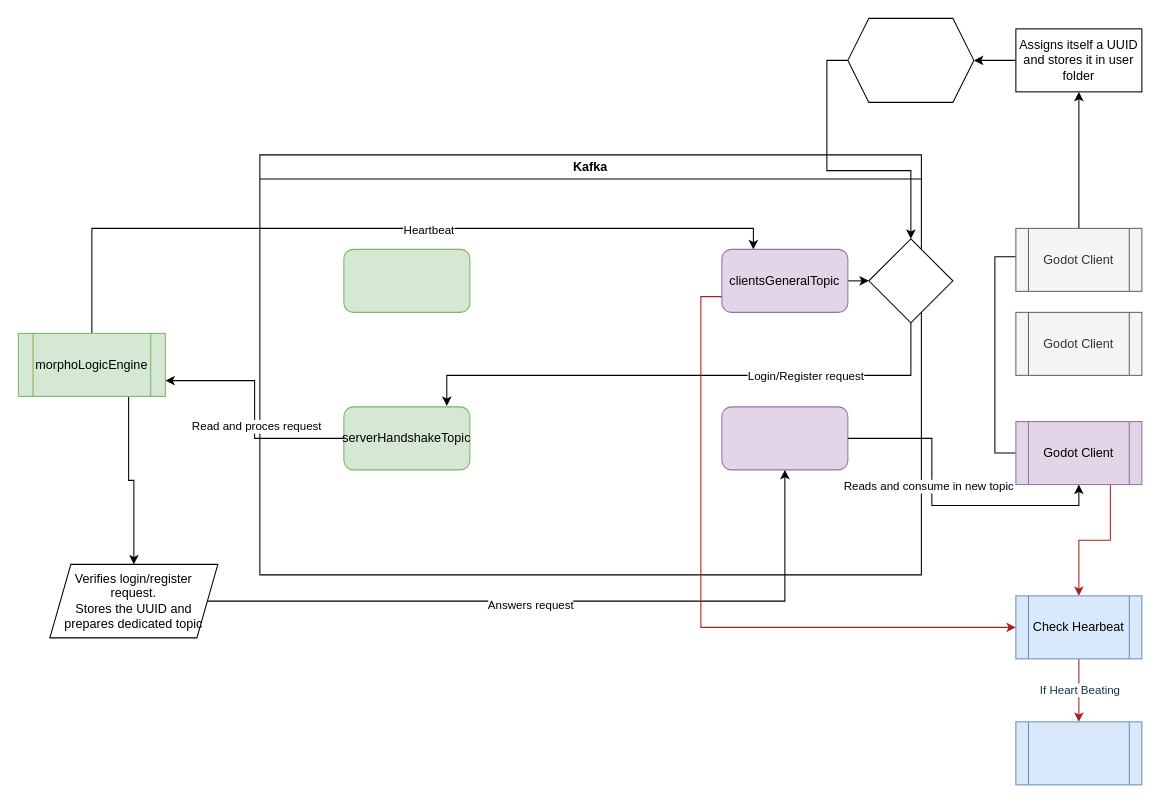
This 1160x803 diagram has some shape labels left out. The box of each missing label's shape, as (x1, y1, x2, y2) in pixels:
Ask user for email and password: (1015, 721, 1142, 785)
clientsHandshakeTopic: (721, 406, 848, 470)
Establishing connection to Kafka: (847, 17, 974, 102)
Reads Heartbeat: (868, 238, 953, 323)
serverGeneralTopic: (343, 248, 470, 312)
